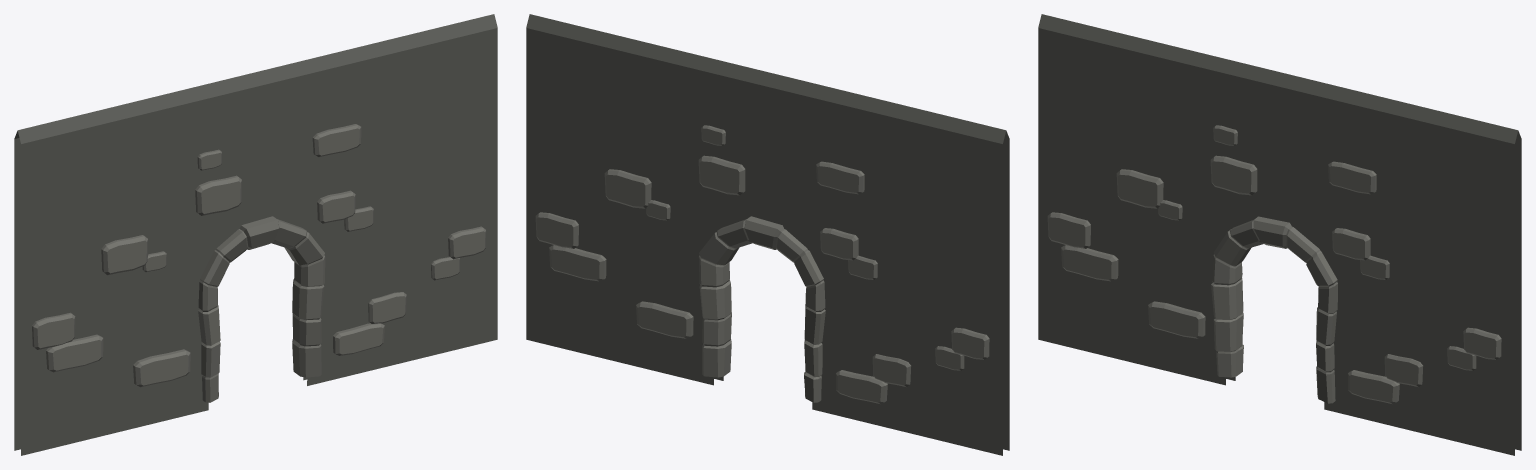
Rendered from stone_wall_door.gltf.
The picture shows the model from 3 angles, left to right: view 1: azimuth 30°, elevation 25°; view 2: azimuth 150°, elevation 25°; view 3: azimuth 330°, elevation 25°; orthographic projection.
Parts seen in each view (by area): view 1: Dungeon_Big_Passage; view 2: Dungeon_Big_Passage; view 3: Dungeon_Big_Passage.
Boxes of the visible parts, left/top/right/bottom form: Dungeon_Big_Passage: left=14, top=14, right=497, bottom=455; Dungeon_Big_Passage: left=526, top=14, right=1009, bottom=455; Dungeon_Big_Passage: left=1038, top=14, right=1521, bottom=455.
Bounding box in the file's own units: 8 × 5.18 × 0.6011.
Materials: 1 (1 with a texture image).
